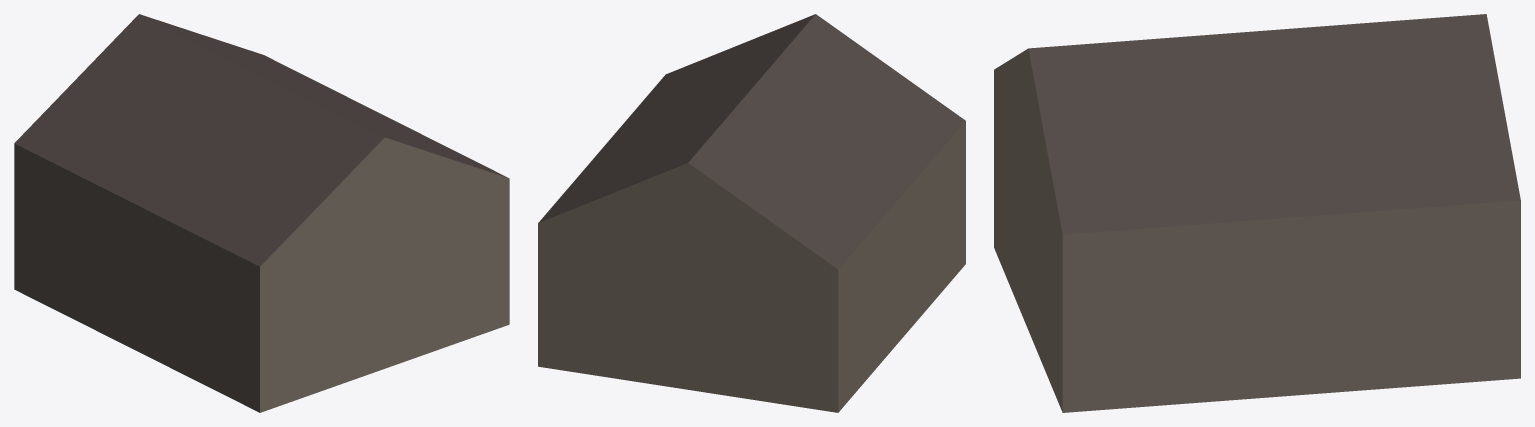
3 views of the same model, side by side, from view 1: azimuth 30°, elevation 25°; view 2: azimuth 150°, elevation 25°; view 3: azimuth 270°, elevation 25° (orthographic). The views are drawn at different scales.
Parts seen in each view (by area): view 1: HP-w372180486; view 2: HP-w372180486; view 3: HP-w372180486.
Part boxes in pixels (bbox=[...]): HP-w372180486: bbox=[14, 14, 509, 412]; HP-w372180486: bbox=[538, 14, 965, 412]; HP-w372180486: bbox=[994, 14, 1520, 412].
Bounding box in the file's own units: 14.43 × 9.5 × 16.09.
